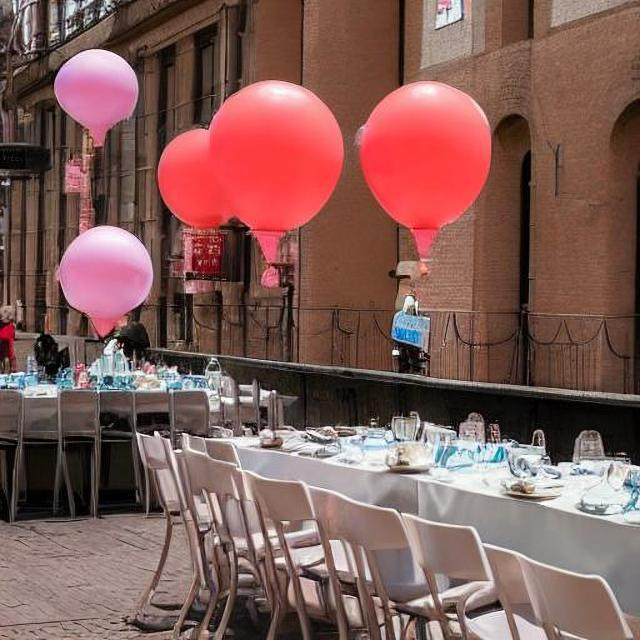balloon: (157, 76, 488, 275), (51, 228, 165, 331), (46, 43, 138, 149)
